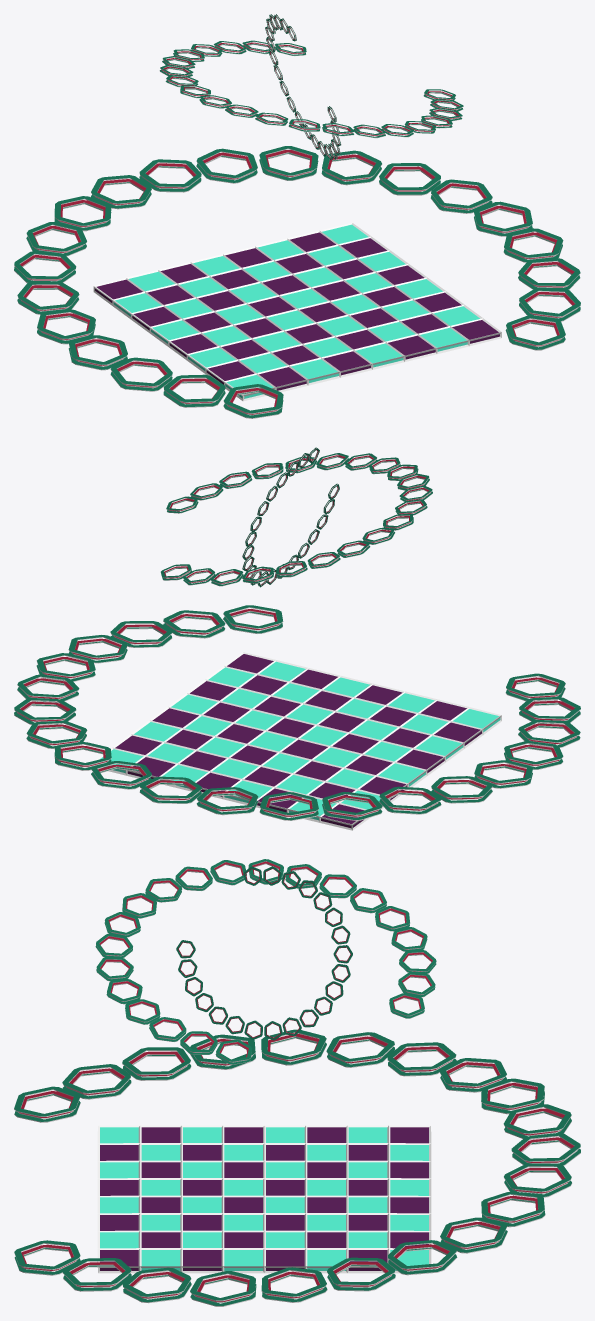
Rendered from FunLargeLvl3DanceFloor.fbx.
3 views of the same model, one above another, from view 1: azimuth 30°, elevation 25°; view 2: azimuth 150°, elevation 25°; view 3: azimuth 270°, elevation 25° (orthographic). The views are drawn at different scales.
Visible parts, largest first — view 1: DanceFloorL3; view 2: DanceFloorL3; view 3: DanceFloorL3.
Part boxes in pixels (x1,y1,x2,y2): DanceFloorL3: (14, 14, 580, 418); DanceFloorL3: (14, 447, 580, 830); DanceFloorL3: (14, 859, 580, 1306).
Bounding box in the file's own units: 457 × 264 × 410.
